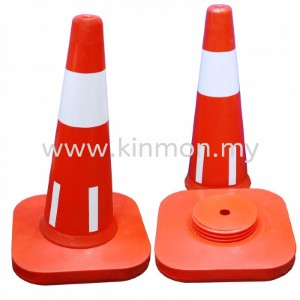traffic cone: (154, 3, 298, 283), (12, 14, 151, 286)
